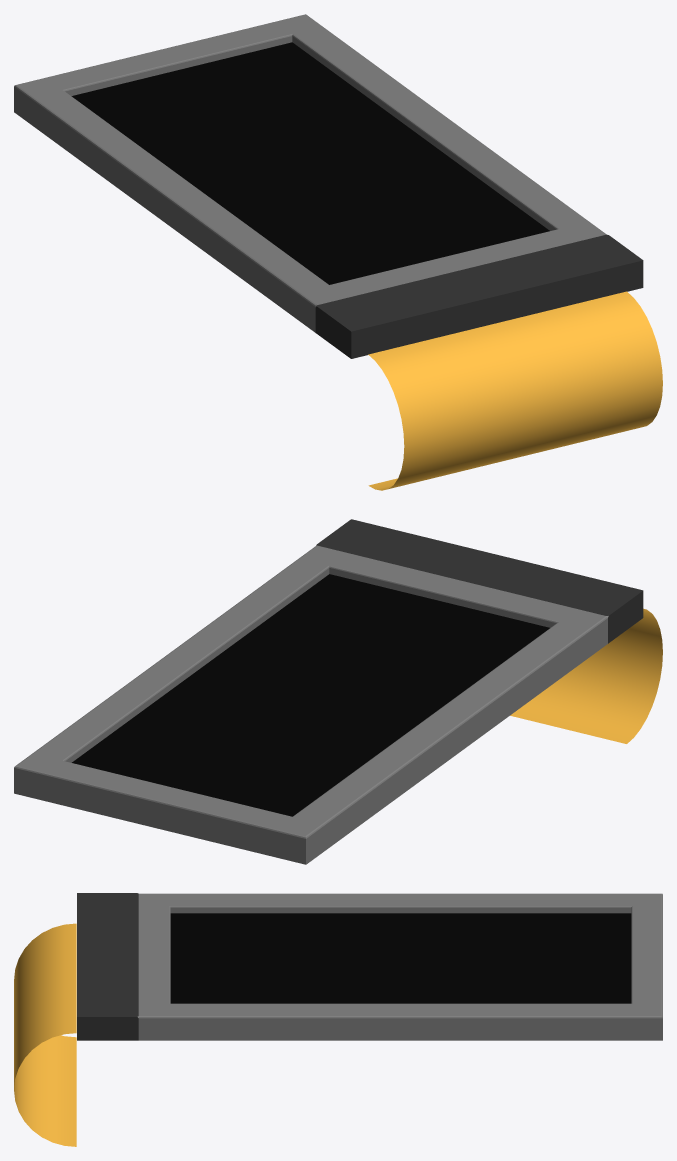
Rendered from disp.glb.
The picture shows the model from 3 angles, top to bottom: view 1: azimuth 30°, elevation 25°; view 2: azimuth 150°, elevation 25°; view 3: azimuth 270°, elevation 25°; orthographic projection. The views are drawn at different scales.
Parts seen in each view (by area): view 1: Cube; view 2: Cube; view 3: Cube.
Part boxes in pixels (x1,y1,x2,y2): Cube: [14, 14, 662, 490]; Cube: [14, 519, 662, 864]; Cube: [14, 893, 662, 1146].
Bounding box in the file's own units: 0.014 × 0.00723 × 0.031.
